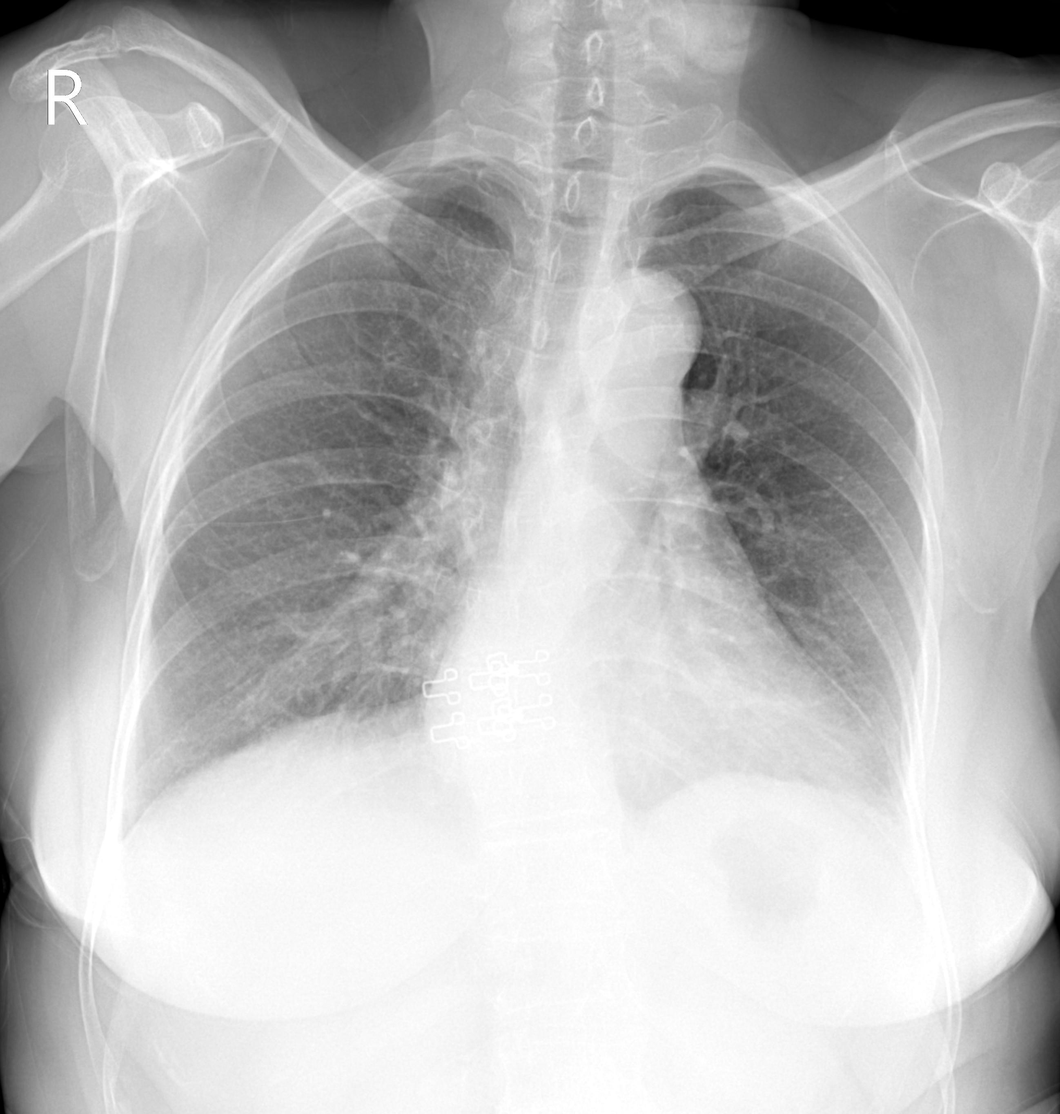Aortic enlargement: (580, 269, 708, 390)
Cardiomegaly: (410, 679, 884, 790)
